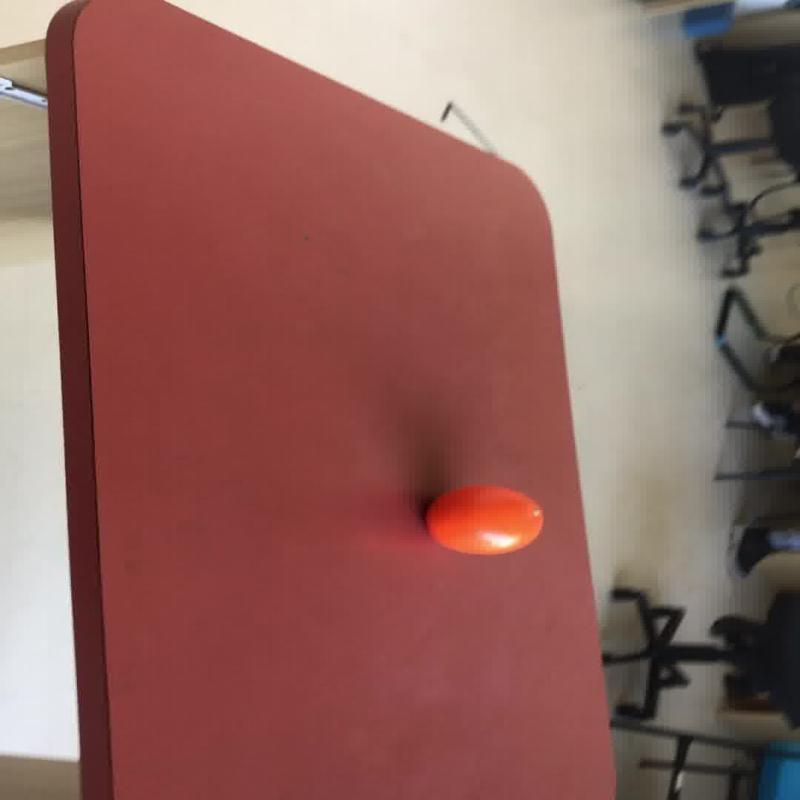orange: (422, 485, 544, 556)
